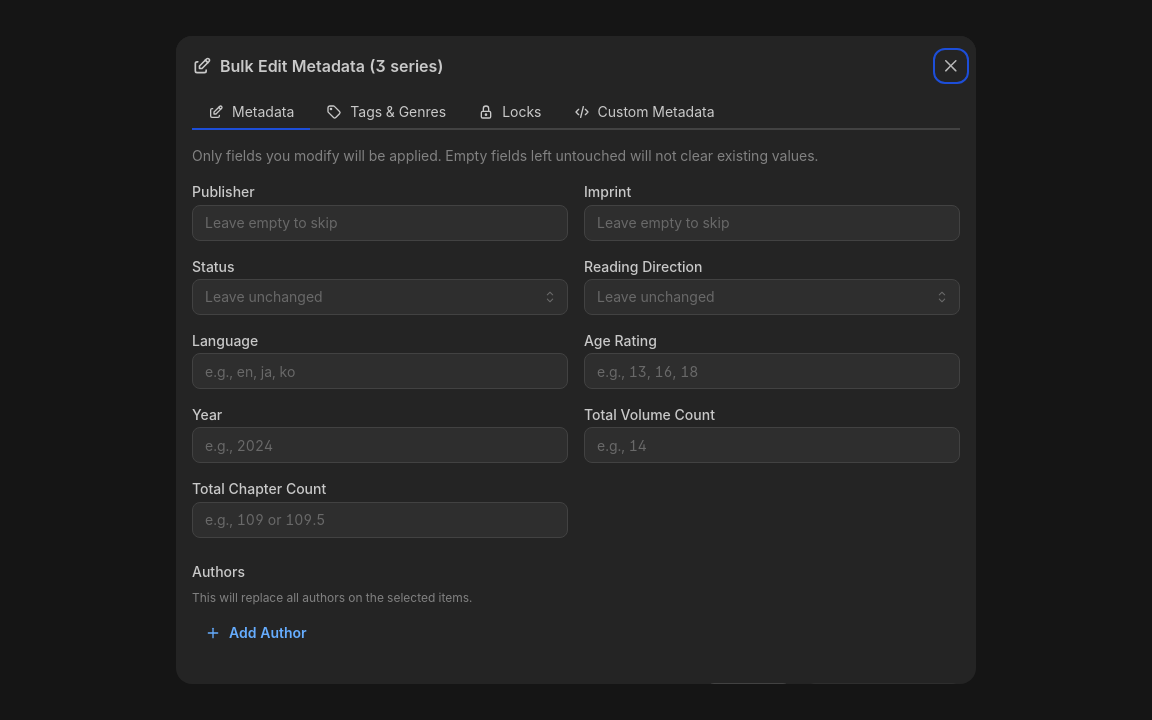
BulkMetadataEditModal › locks tab › switches to locks tab and shows lock fields for series
Step 1. Click the tab "Locks" → (510, 113), box [462,96,558,130]
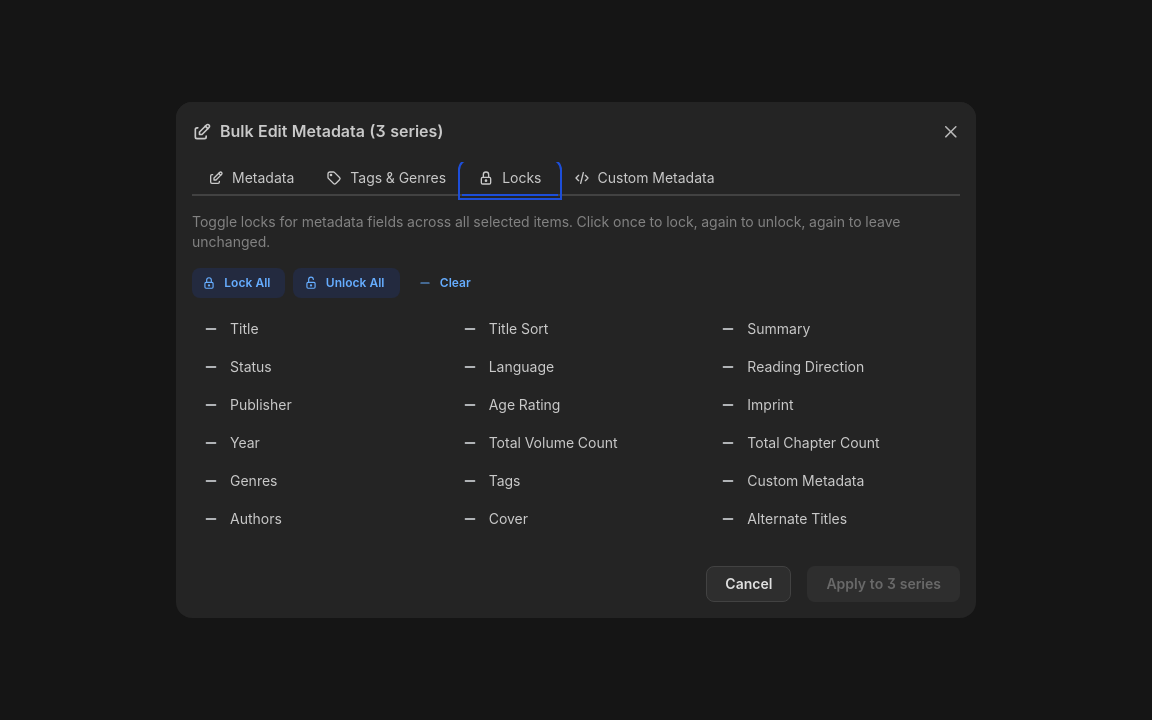
Expected: the text "Title" is shown, [230,319,259,339]
Expected: the text "Title Sort" is shown, [489,319,548,339]
Expected: the text "Alternate Titles" is shown, [747,509,847,529]
